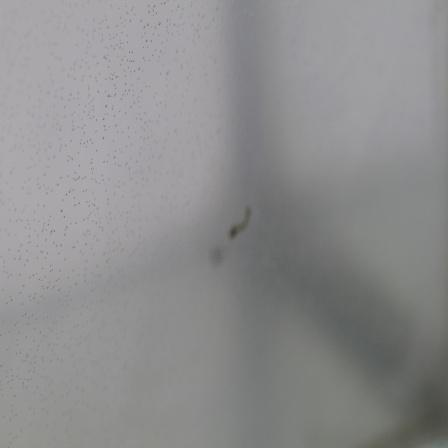Jentik-Nyamuk: (227, 202, 252, 242)
